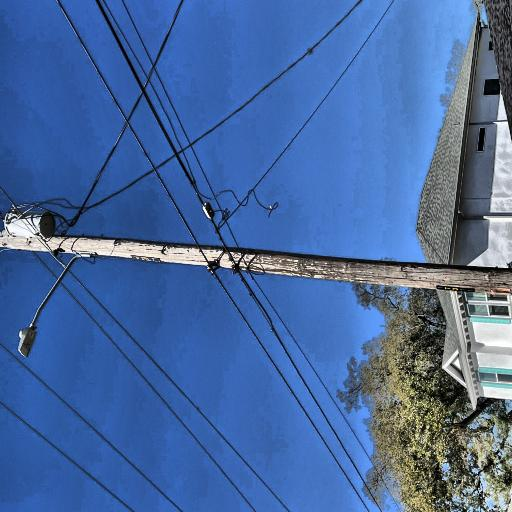pole: (64, 14, 170, 512)
street light: (36, 130, 134, 221)
transformer: (142, 118, 170, 176)
